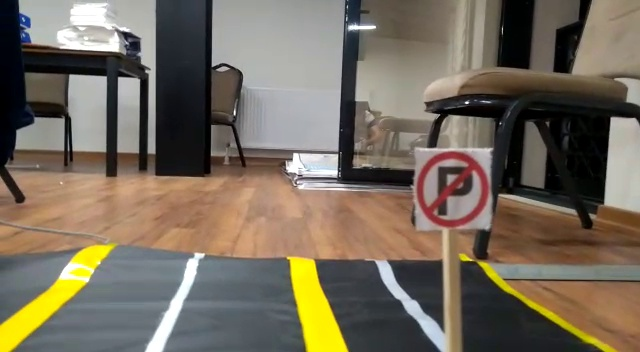park_yapilmaz: (417, 151, 493, 230)
